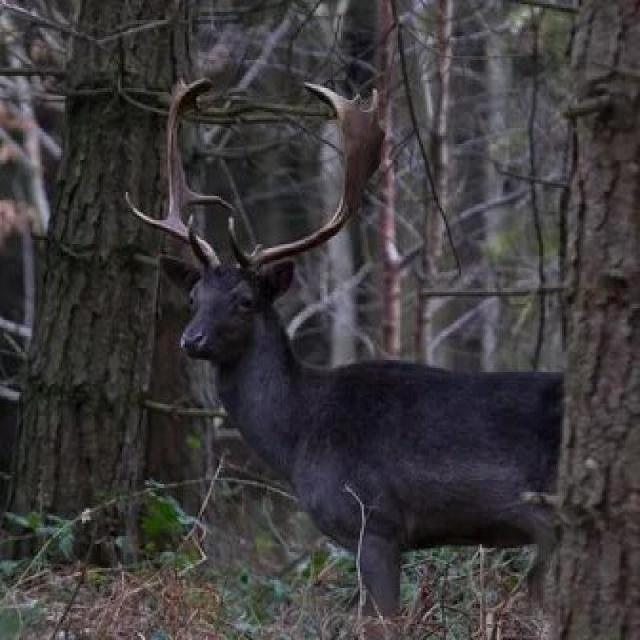deer: (141, 182, 640, 583)
